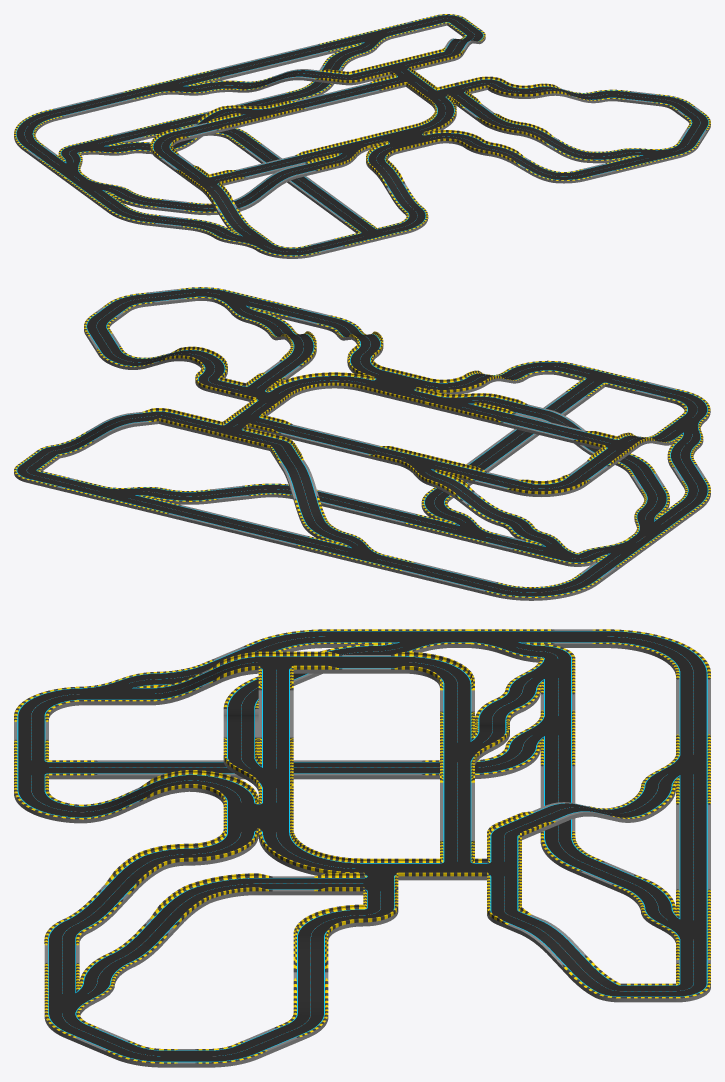
File: GCU Track Recolour.fbx
3 views of the same model, one above another, from view 1: azimuth 30°, elevation 25°; view 2: azimuth 150°, elevation 25°; view 3: azimuth 270°, elevation 25° (orthographic). The views are drawn at different scales.
Visible parts, largest first — view 1: Wide Right Turn.012, Straight Ahead Wall.039; view 2: Wide Right Turn.012, Straight Ahead Wall.039; view 3: Wide Right Turn.012, Straight Ahead Wall.039.
Part boxes in pixels (x1,y1,x2,y2): Wide Right Turn.012: (14,15,710,258); Straight Ahead Wall.039: (14,14,710,256); Wide Right Turn.012: (14,288,710,600); Straight Ahead Wall.039: (14,287,710,597); Wide Right Turn.012: (14,629,710,1067); Straight Ahead Wall.039: (14,629,710,1063).
Size of the model in its own units: 1177 by 49 by 798.
